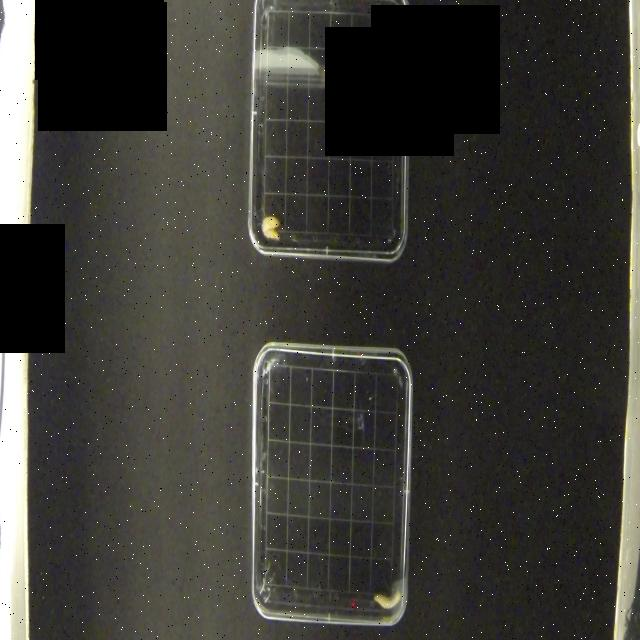larva: (261, 211, 284, 244), (374, 588, 402, 612)
